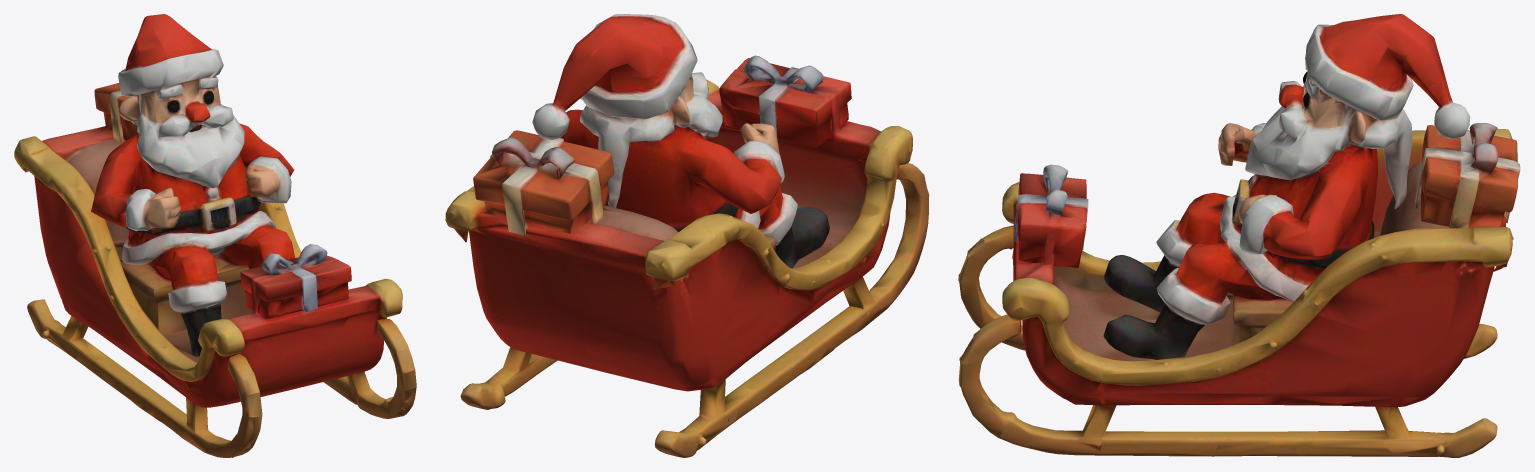
File: sleigh.glb
3 views of the same model, side by side, from view 1: azimuth 30°, elevation 25°; view 2: azimuth 150°, elevation 25°; view 3: azimuth 270°, elevation 25° (orthographic). The views are drawn at different scales.
Parts seen in each view (by area): view 1: tripo_node_8da18d3b-0fb1-420f-aba8-1c3331d33fc8; view 2: tripo_node_8da18d3b-0fb1-420f-aba8-1c3331d33fc8; view 3: tripo_node_8da18d3b-0fb1-420f-aba8-1c3331d33fc8.
Boxes of the visible parts, x1,y1,x2,y2 form: tripo_node_8da18d3b-0fb1-420f-aba8-1c3331d33fc8: (14,14,416,457); tripo_node_8da18d3b-0fb1-420f-aba8-1c3331d33fc8: (445,14,929,457); tripo_node_8da18d3b-0fb1-420f-aba8-1c3331d33fc8: (958,14,1520,457).
Size of the model in its own units: 0.5011 by 0.7676 by 0.9989.
Materials: 1 (1 with a texture image).
